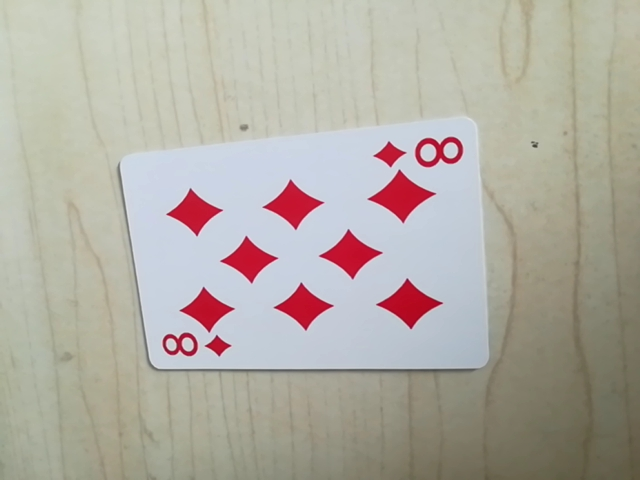fk 8: (373, 128, 469, 174), (156, 329, 232, 366)
